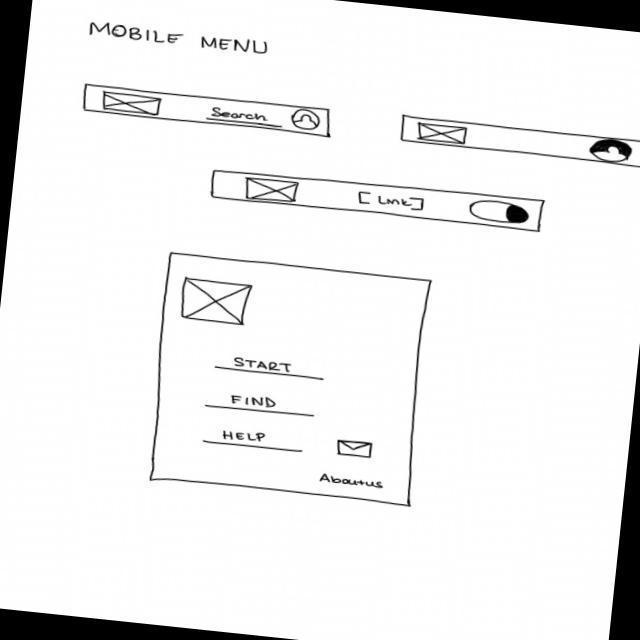image: (177, 275, 255, 328), (100, 90, 164, 117), (243, 176, 302, 205), (416, 122, 470, 146)
input: (204, 106, 286, 130)
label: (88, 19, 273, 58)
link: (355, 190, 428, 213)
